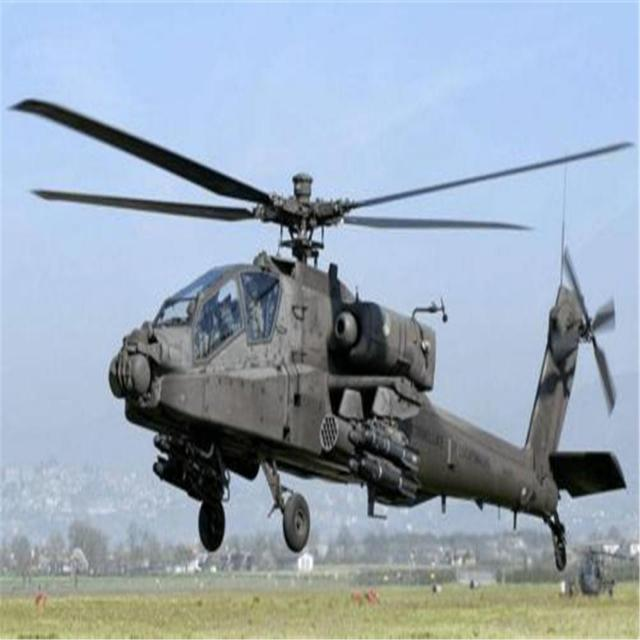MIL_HELO: (16, 81, 640, 593)
